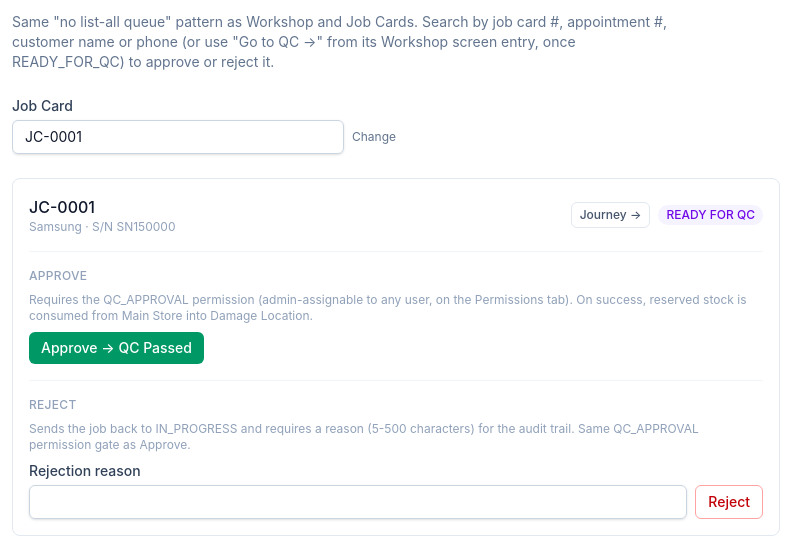
Scenario: QcPage - Reject (the-fool pre-mortem finding #3: no dead end) › shows a link back to Workshop after a successful reject, not a dead end
In the field labelled "Rejection reason": (358, 502) [29,485,687,519], type "Drum still noisy"
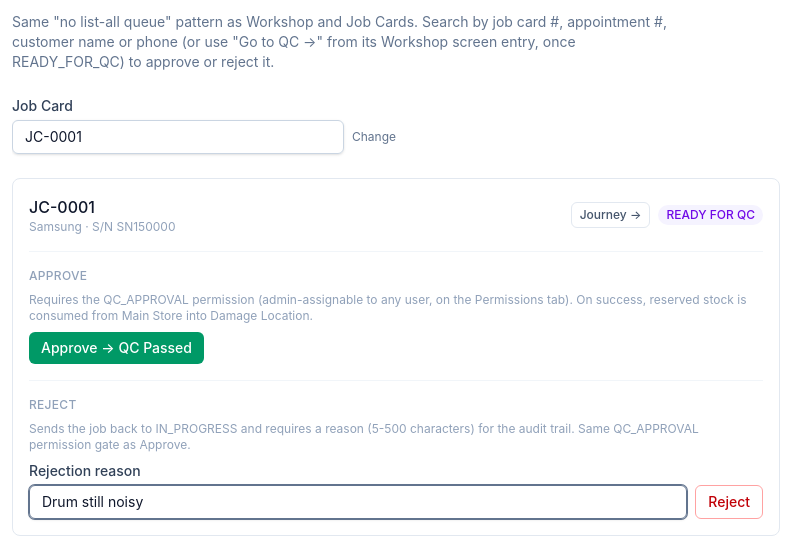
Click the button "Reject": (729, 502) [695,485,763,519]
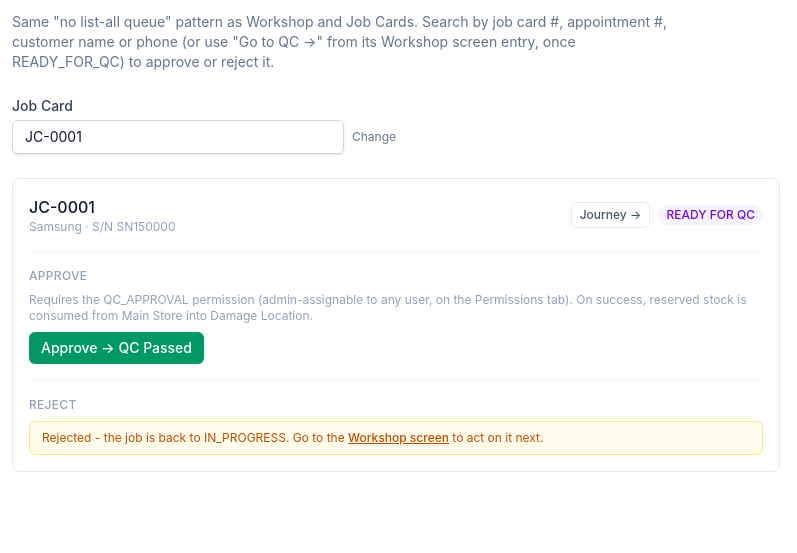
Check: the text "back to IN_PROGRESS" is shown, box [42,430,345,445]
